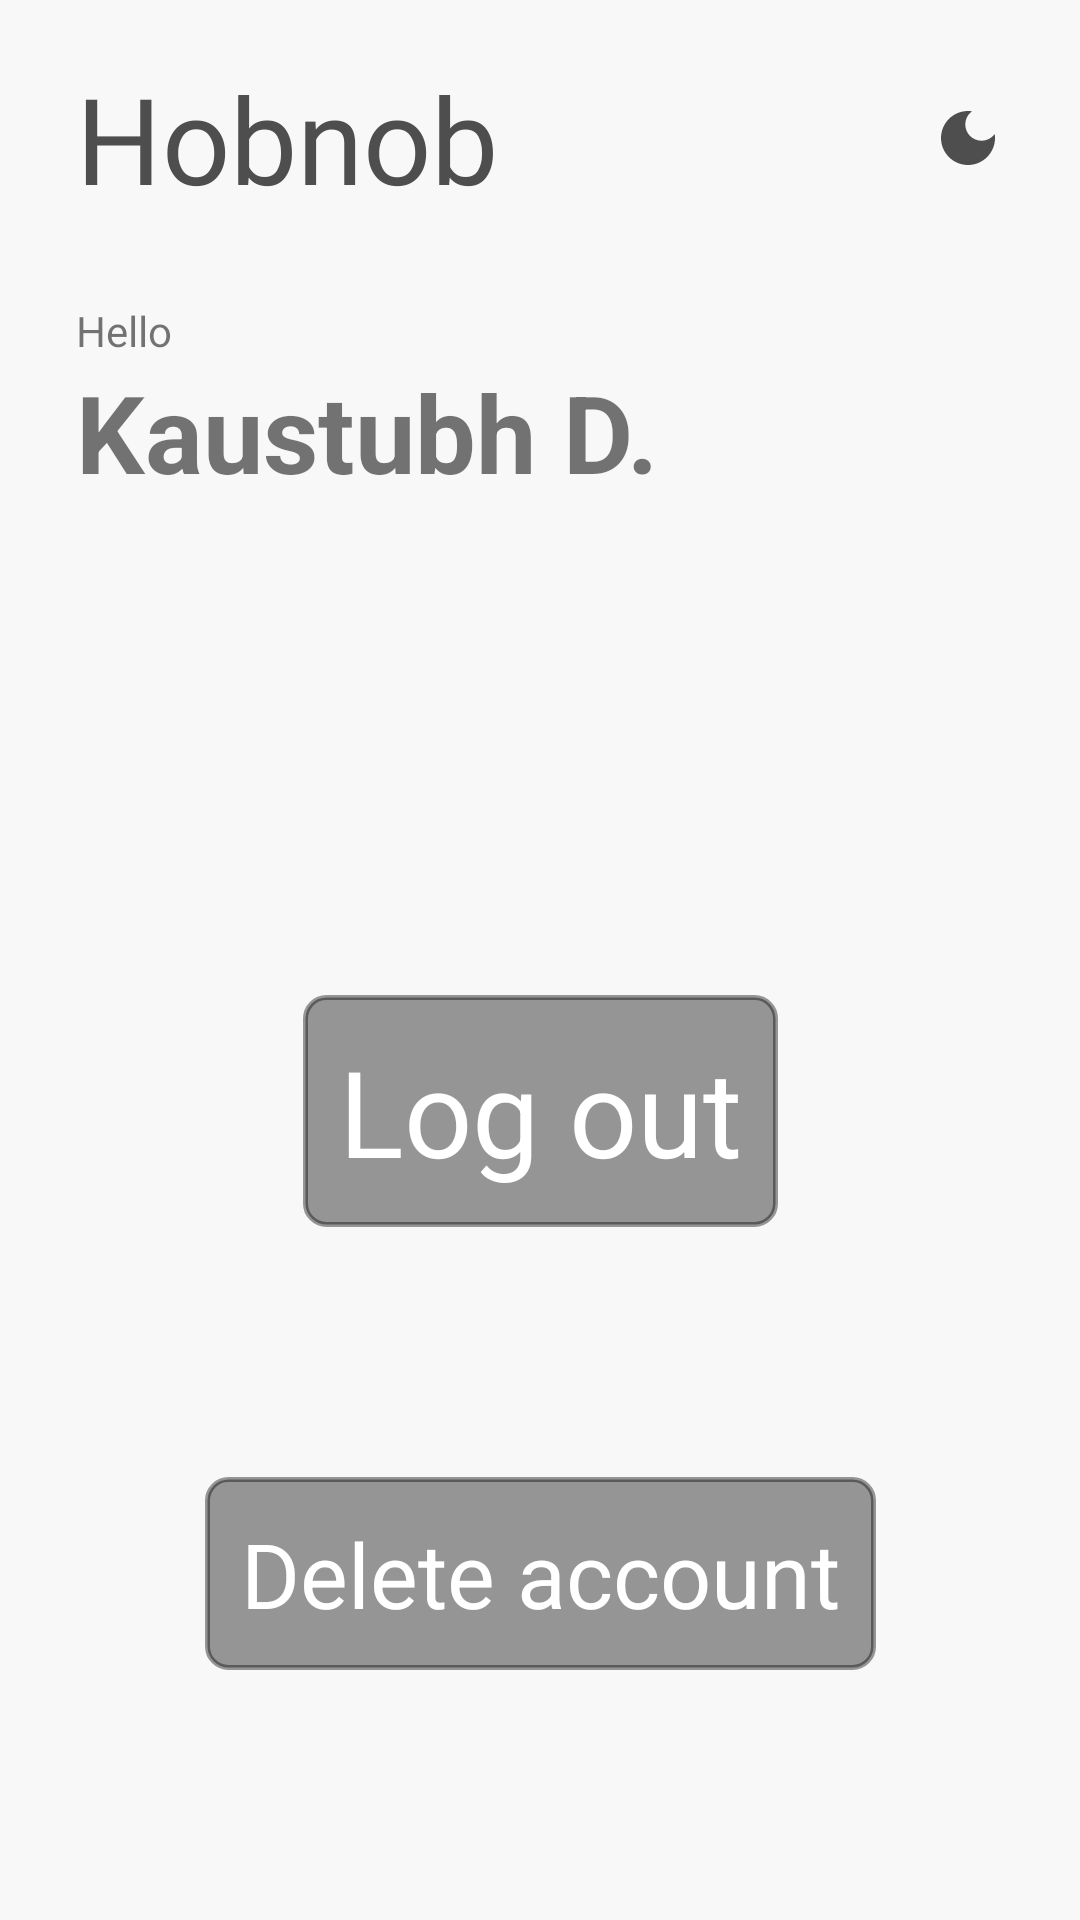

Named icons in this screenshot (1080 × 1920) and their centers, (x,y):
mode: (968,138)
